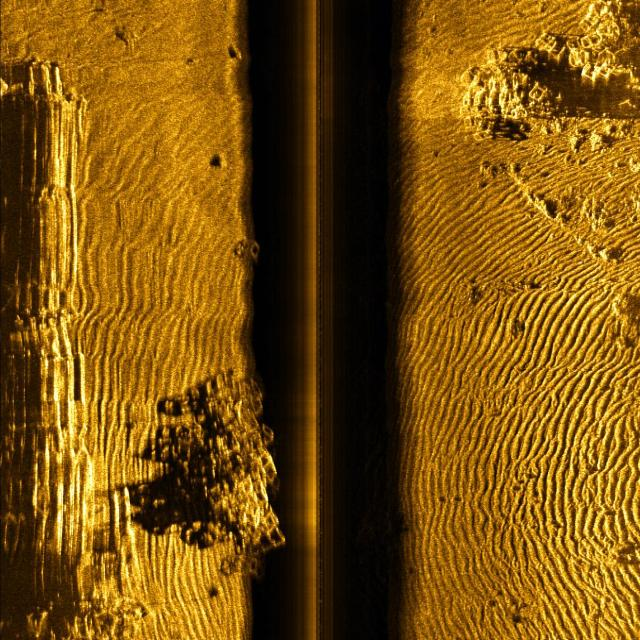artificial reef: (152, 364, 301, 572), (461, 6, 624, 151), (228, 222, 271, 281)
